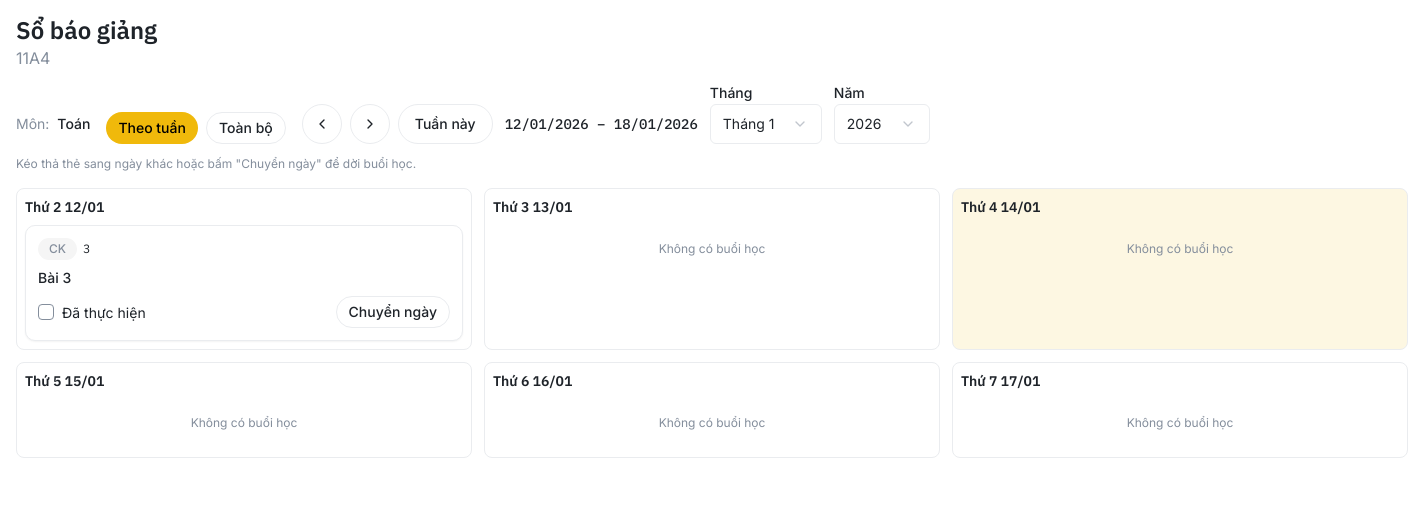
chế độ "Toàn bộ" › (b) gọi query không có from/to, nhóm theo tuần, mỗi thẻ có ngày + thứ, không kéo-thả, WeekNav ẩn
What coordinates should you click on to do the following:
click the button "Toàn bộ"
I would click on:
 (246, 128)
Its box is [206,112,286,144].
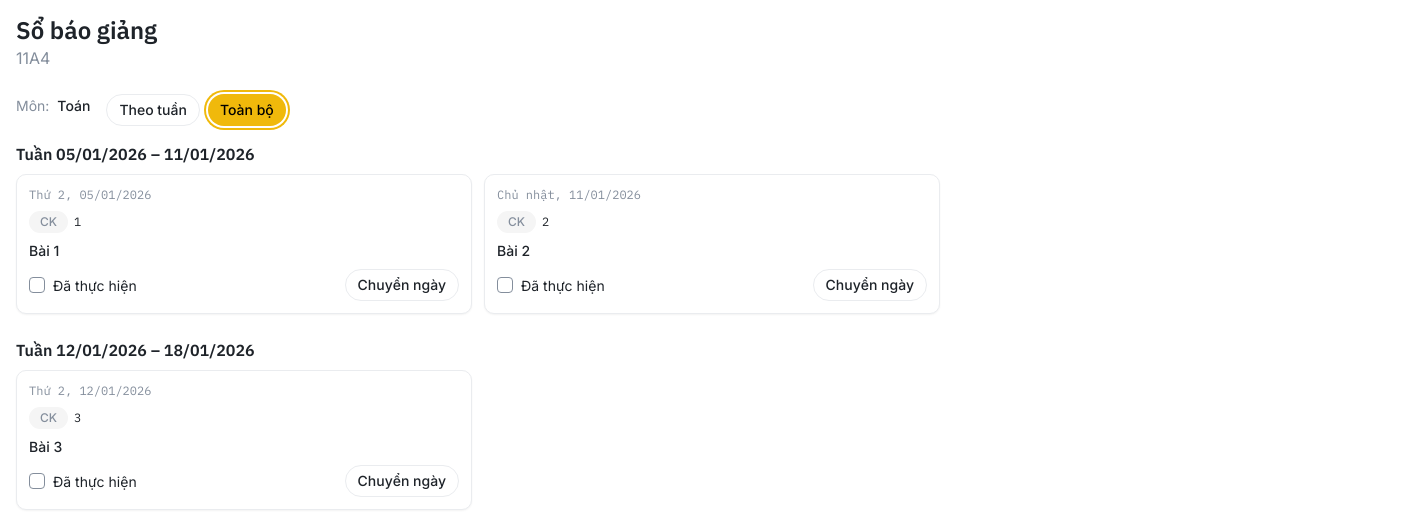
Check: the text "Thứ 2, 05/01/2026" is shown, box [29,187,151,202]
Check: the text "Chủ nhật, 11/01/2026" is shown, box [497,187,641,202]
Check: the text "Bài 2" is shown, box [497,242,530,259]
